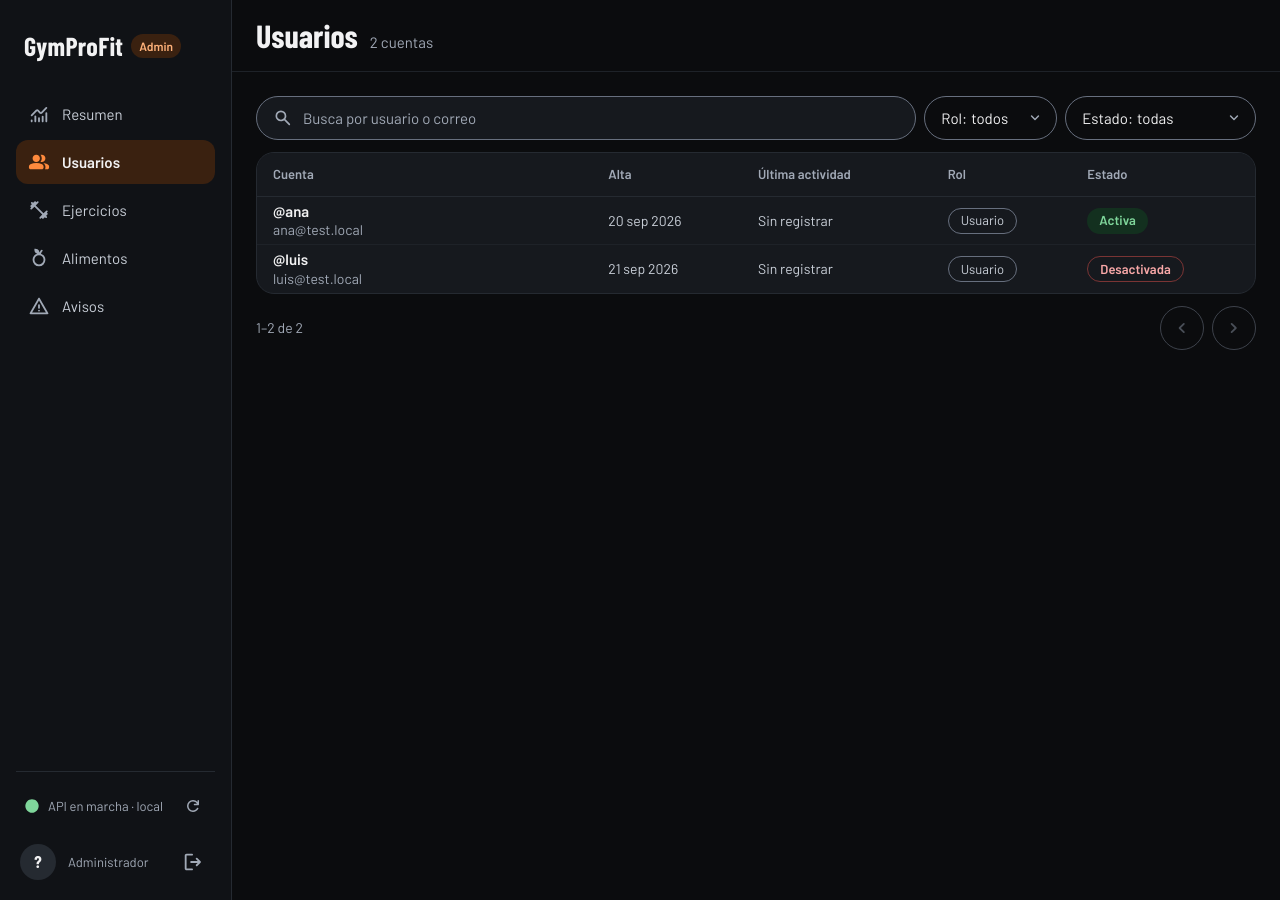
Usuarios en escritorio › un Esc con un diálogo abierto dentro de la ficha cierra el diálogo, no la ficha
Expected: the table is shown, [257,153,1255,293]
Step 1. Click the button "@ana ana@test.local" → (318, 230), box [273,198,584,242]
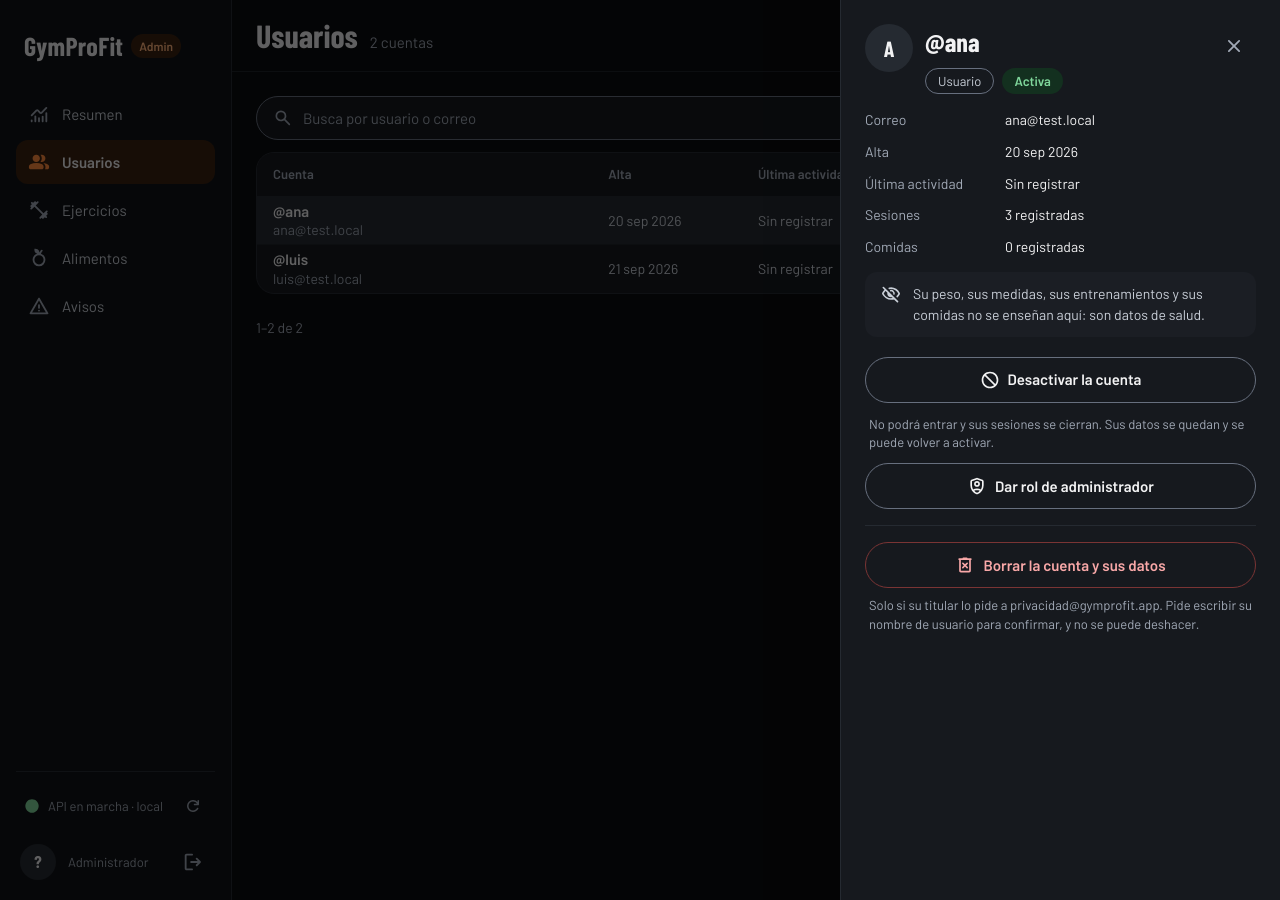
Step 2. Click the button "Dar rol de administrador" → (1060, 486), box [865,463,1256,509]
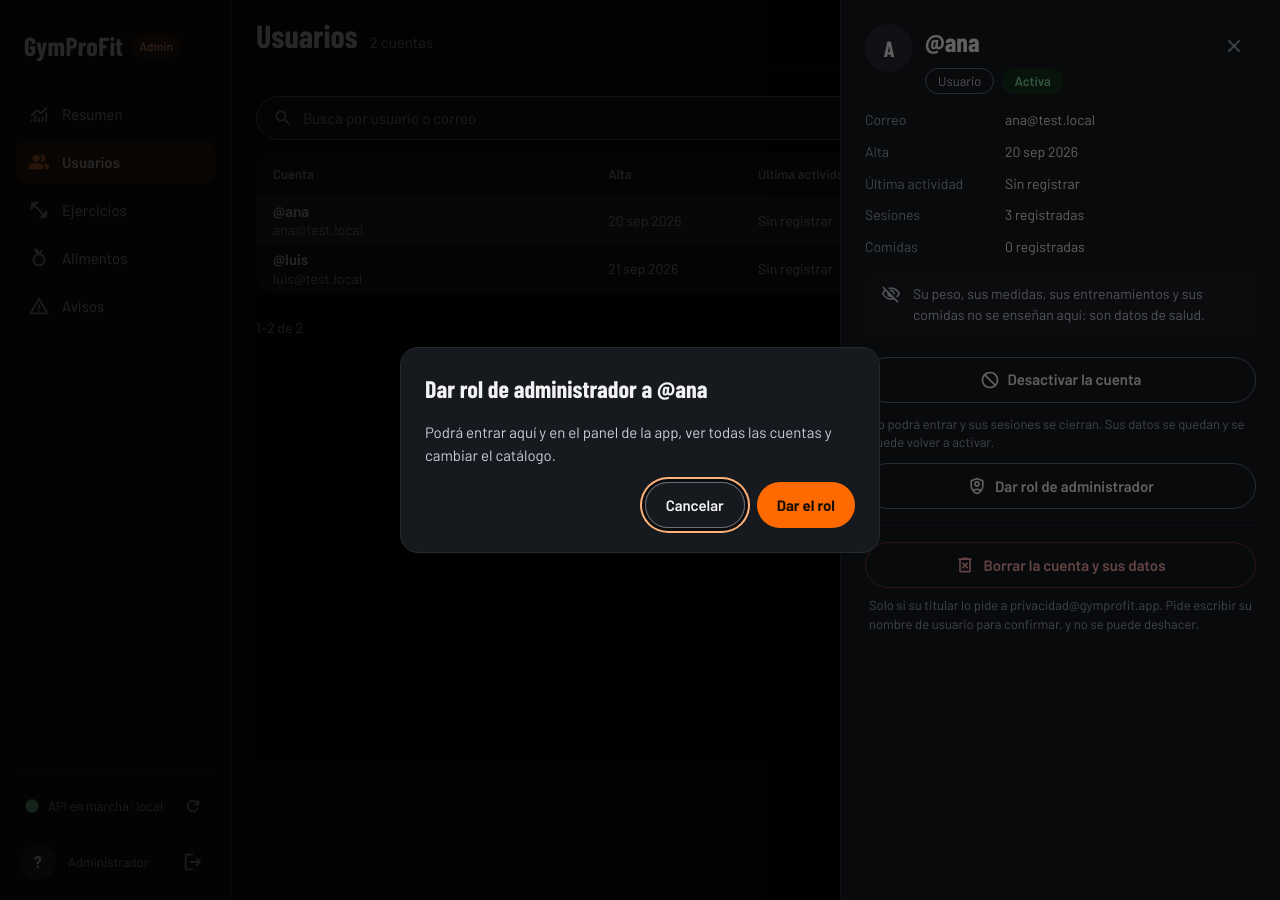
Now the dialog named "Cuenta @ana" is shown, box [840,0,1279,899]
Now the dialog "Dar rol de administrador" is shown, box [400,347,880,553]
